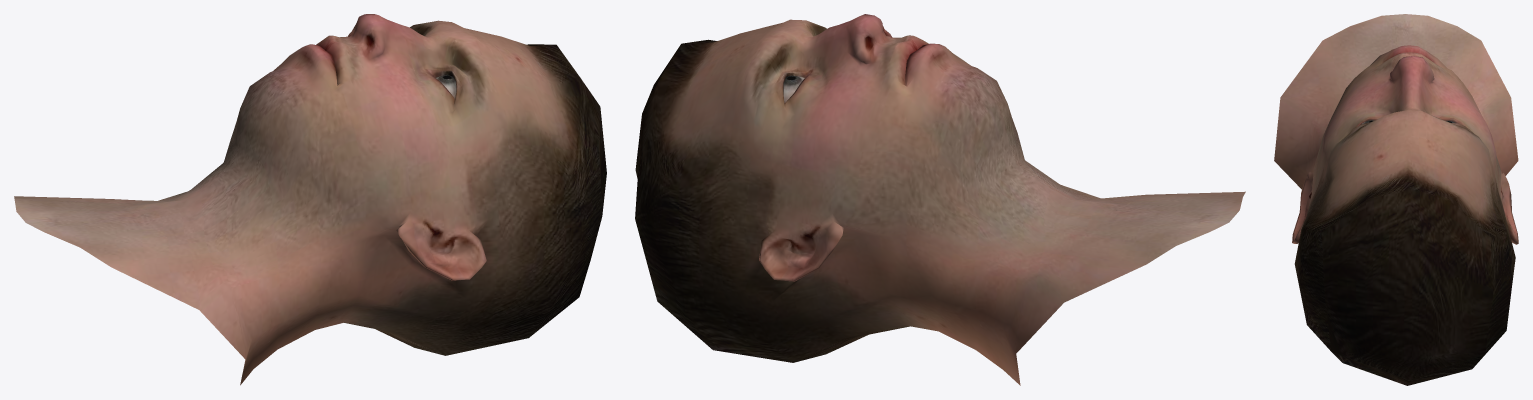
The model's file is head_russian_winter_alex.glb.
3 views of the same model, side by side, from view 1: azimuth 30°, elevation 25°; view 2: azimuth 150°, elevation 25°; view 3: azimuth 270°, elevation 25° (orthographic). The views are drawn at different scales.
Bounding box in the file's own units: 16.17 × 9.43 × 7.41.
1 material, 1 textured.
